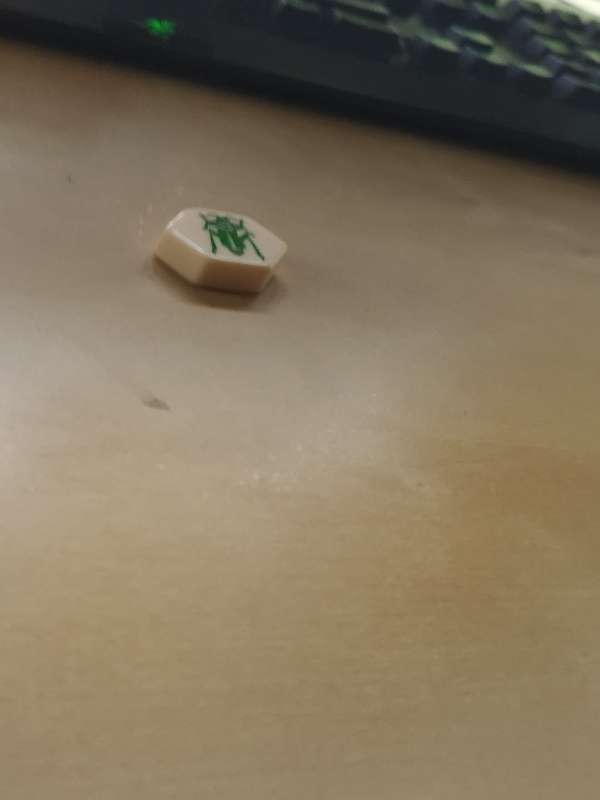white_grasshopper: (153, 204, 291, 300)
